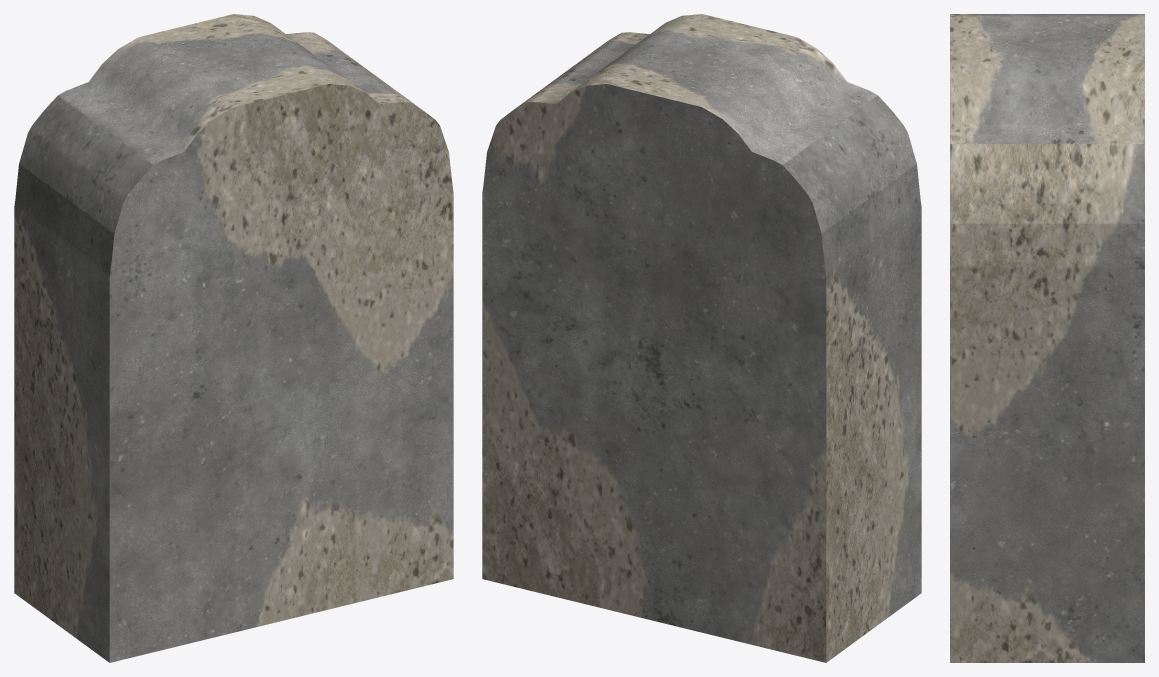
Rendered from TombStoneSmall.fbx.
3 views of the same model, side by side, from view 1: azimuth 30°, elevation 25°; view 2: azimuth 150°, elevation 25°; view 3: azimuth 270°, elevation 25° (orthographic). The views are drawn at different scales.
Visible parts, largest first — view 1: TombStoneLong; view 2: TombStoneLong; view 3: TombStoneLong.
Boxes of the visible parts, box(x1,y1,x2,y2) form: TombStoneLong: box(14, 14, 453, 662); TombStoneLong: box(482, 14, 921, 662); TombStoneLong: box(950, 14, 1144, 662).
Size of the model in its own units: 2.08 by 3.04 by 1.
1 material, 1 textured.
